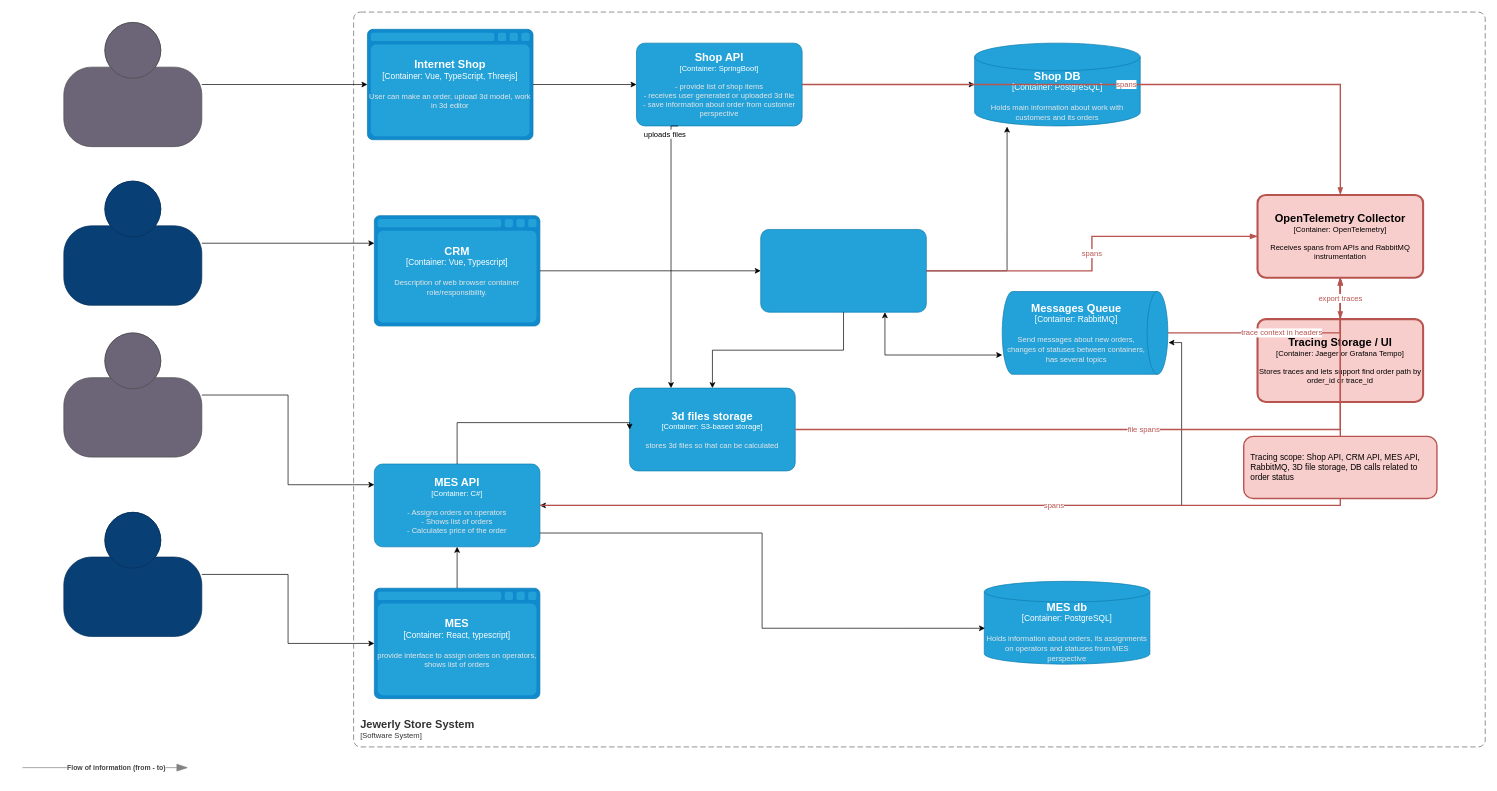
This 1497x791 diagram has some shape labels left out. Each missing label, with the box of its shape:
API user [Person] Description of external person.: (63, 332, 202, 457)
CRM API [Container: SpringBoot] Description of container role/responsibility.: (760, 229, 926, 312)
Customer [Person] Description of external person.: (63, 22, 202, 147)
Operator [Person] Takes order in work, manufactures jewerly: (63, 512, 202, 637)
Seller [Person] Operates with order, confirms manufacturing for the user: (63, 180, 202, 305)
